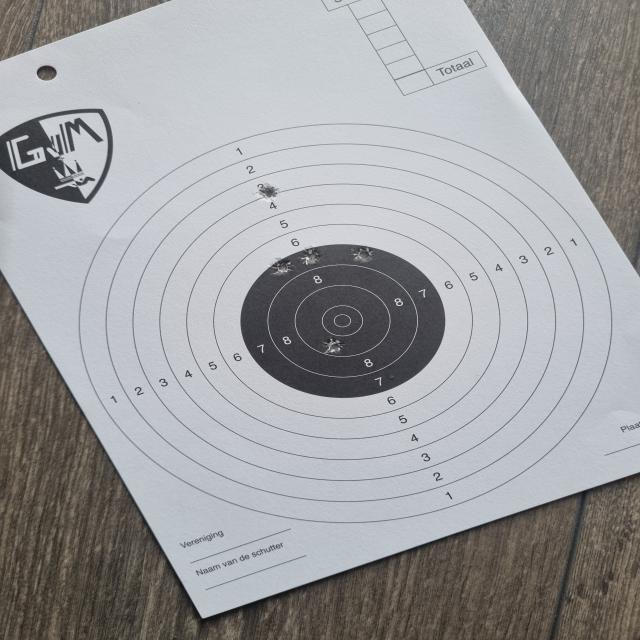10: (321, 338, 344, 354)
5: (253, 184, 278, 201)
8: (267, 258, 294, 276), (296, 247, 324, 264), (351, 246, 374, 263)
Black Contour: (238, 244, 448, 399)
Target: (80, 120, 615, 524)
